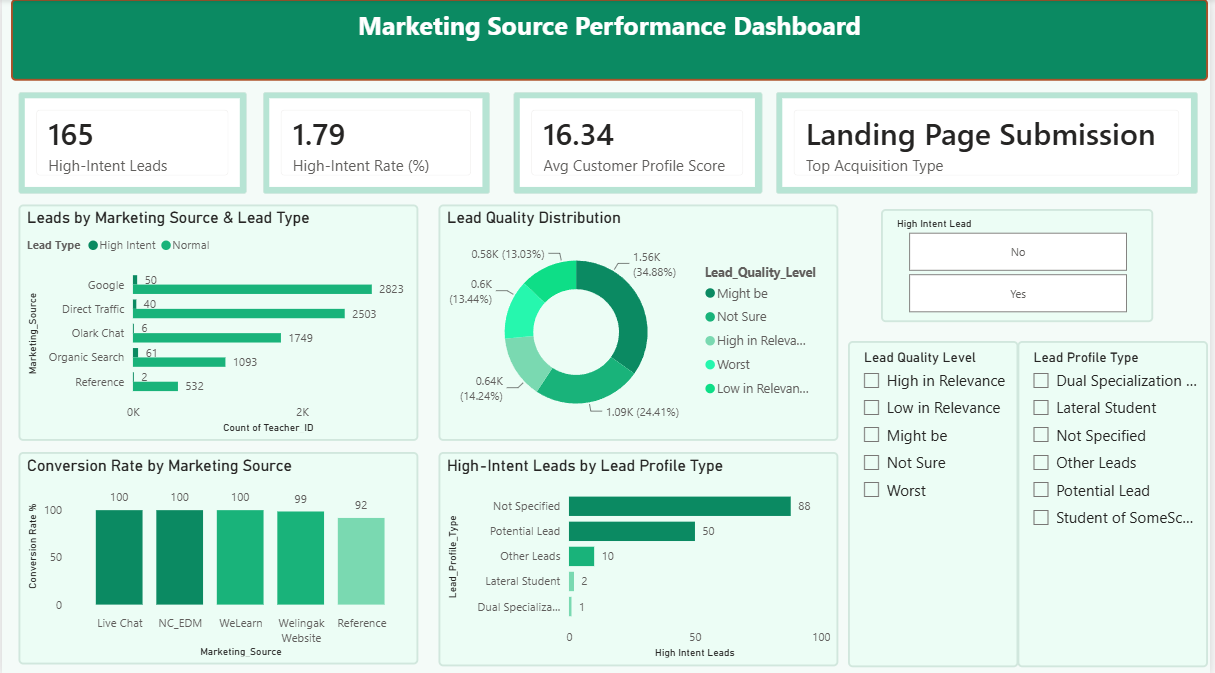

The page's visual inventory and layout, read from the dashboard file:
{"tool":"powerbi","page":{"name":"Marketing Performance Analysis","canvas":[1280,720],"ordinal":1},"visuals":[{"type":"textbox","box":[10,0,1269.4,86.9],"z":0},{"type":"cardVisual","fields":{"Data":["clean_b2b_edtech_leads.High Intent Leads"]},"box":[16.7,98.5,242.2,108],"z":1000},{"type":"clusteredBarChart","title":"High-Intent Leads by Lead Profile Type","fields":{"Y":["clean_b2b_edtech_leads.High Intent Leads"],"Category":["clean_b2b_edtech_leads.Lead_Profile_Type"]},"box":[462.7,481,424.3,227.2],"z":2000},{"type":"donutChart","title":"Lead Quality Distribution","fields":{"Category":["clean_b2b_edtech_leads.Lead_Quality_Level"],"Y":["CountNonNull(clean_b2b_edtech_leads.Teacher_ID)"]},"box":[462.7,217.1,424.3,250.5],"z":3000},{"type":"clusteredColumnChart","title":"Conversion Rate by Marketing Source","fields":{"Category":["clean_b2b_edtech_leads.Marketing_Source"],"Y":["clean_b2b_edtech_leads.Conversion Rate %"]},"box":[16.7,481,424.3,225.5],"z":4000},{"type":"slicer","fields":{"Values":["clean_b2b_edtech_leads.Lead_Profile_Type"]},"box":[1077.3,362.5,202.1,345.8],"z":5000},{"type":"slicer","fields":{"Values":["clean_b2b_edtech_leads.High_Intent_Lead"]},"box":[932,222.2,289,120.3],"z":6000},{"type":"clusteredBarChart","title":"Leads by Marketing Source & Lead Type","fields":{"Category":["clean_b2b_edtech_leads.Marketing_Source"],"Series":["clean_b2b_edtech_leads.Lead Type"],"Y":["CountNonNull(clean_b2b_edtech_leads.Teacher_ID)"]},"box":[16.7,217.1,424.3,250.5],"z":7000},{"type":"cardVisual","fields":{"Data":["clean_b2b_edtech_leads.High Intent %"]},"box":[277.3,98.5,240.5,108],"z":8000},{"type":"cardVisual","fields":{"Data":["clean_b2b_edtech_leads.Top Acquisition Type"]},"box":[820.1,98.5,447.6,108],"z":9000},{"type":"cardVisual","fields":{"Data":["clean_b2b_edtech_leads.Avg Customer Profile Score"]},"box":[542.8,98.5,263.9,108],"z":10000},{"type":"slicer","fields":{"Values":["clean_b2b_edtech_leads.Lead_Quality_Level"]},"box":[897,362.5,180.4,345.8],"z":11000}]}

Visuals, with their boxes in screenshot pixels (x1, y1, x2, y2), scaled from the page's 1280x720 canvas onto the 1215x673 screenshot:
textbox: rect(9, 0, 1214, 81)
cardVisual - clean_b2b_edtech_leads.High Intent Leads: rect(16, 92, 246, 193)
"High-Intent Leads by Lead Profile Type" clusteredBarChart: rect(439, 450, 842, 662)
"Lead Quality Distribution" donutChart: rect(439, 203, 842, 437)
"Conversion Rate by Marketing Source" clusteredColumnChart: rect(16, 450, 419, 660)
slicer - clean_b2b_edtech_leads.Lead_Profile_Type: rect(1023, 339, 1214, 662)
slicer - clean_b2b_edtech_leads.High_Intent_Lead: rect(885, 208, 1159, 320)
"Leads by Marketing Source & Lead Type" clusteredBarChart: rect(16, 203, 419, 437)
cardVisual - clean_b2b_edtech_leads.High Intent %: rect(263, 92, 492, 193)
cardVisual - clean_b2b_edtech_leads.Top Acquisition Type: rect(778, 92, 1203, 193)
cardVisual - clean_b2b_edtech_leads.Avg Customer Profile Score: rect(515, 92, 766, 193)
slicer - clean_b2b_edtech_leads.Lead_Quality_Level: rect(851, 339, 1023, 662)
